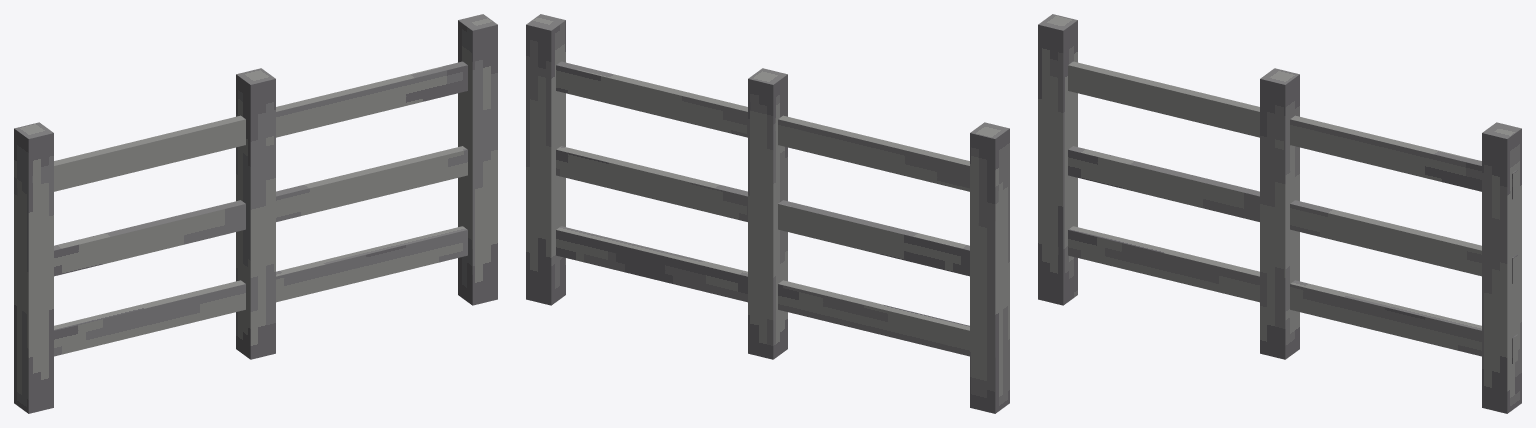
Rendered from Fence_2.fbx.
3 renders of one model, left to right at view 1: azimuth 30°, elevation 25°; view 2: azimuth 150°, elevation 25°; view 3: azimuth 330°, elevation 25°, orthographic.
Visible parts, largest first — view 1: Cube.003; view 2: Cube.003; view 3: Cube.003.
Part boxes in pixels (x1,y1,x2,y2): Cube.003: (14,14,497,413); Cube.003: (526,14,1009,413); Cube.003: (1038,14,1521,413).
Size of the model in its own units: 759 by 424 by 40.85.
Materials: 1 (1 with a texture image).
